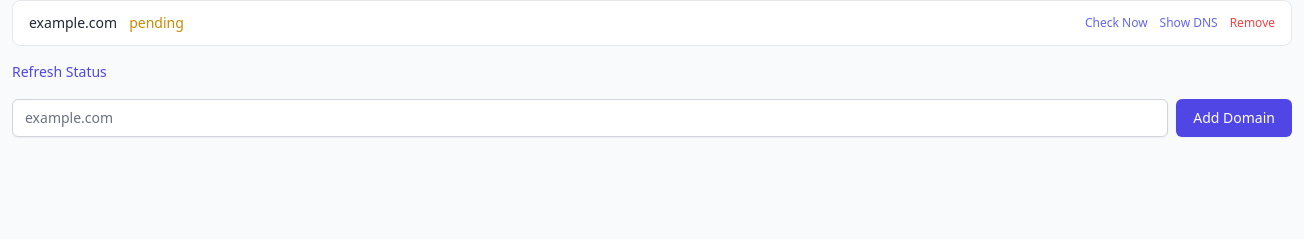
DomainsPanel › hides DNS details when Hide DNS is clicked
Click the button "Show DNS": {"x": 1189, "y": 23} top-left (1160, 15), bottom-right (1218, 31)
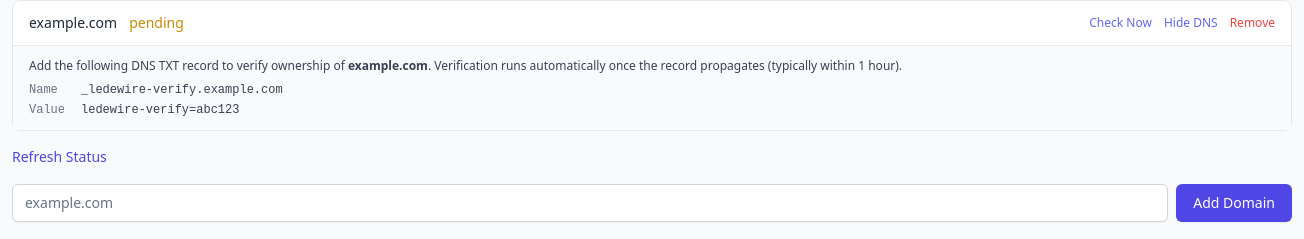
Click the button "Hide DNS": {"x": 1191, "y": 23} top-left (1164, 15), bottom-right (1218, 31)
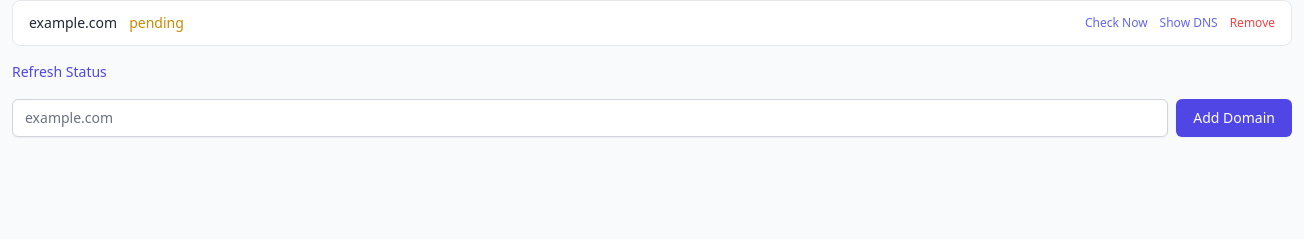
Expected: the text "ledewire-verify=abc123" is gone
